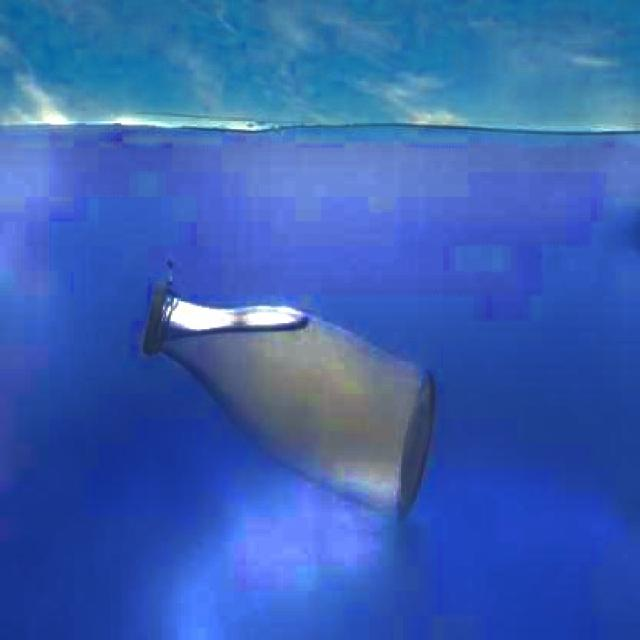gbottle: (143, 283, 439, 525)
